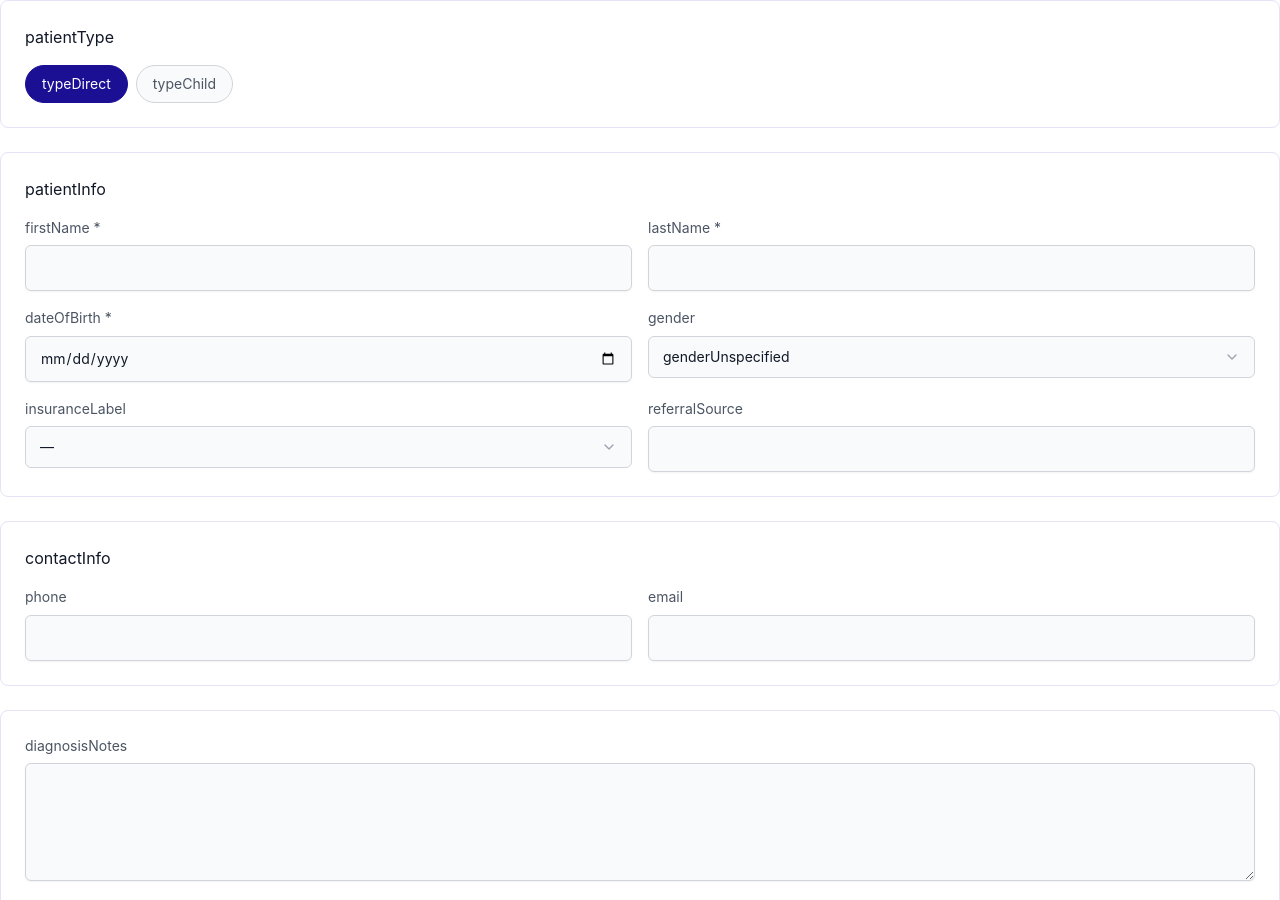
Test: PatientForm › shows parent info fields when child type is selected
# Select child type
Click the radio button labelled "typeChild".
click(184, 84)  # box x1=136 y1=65 x2=233 y2=103
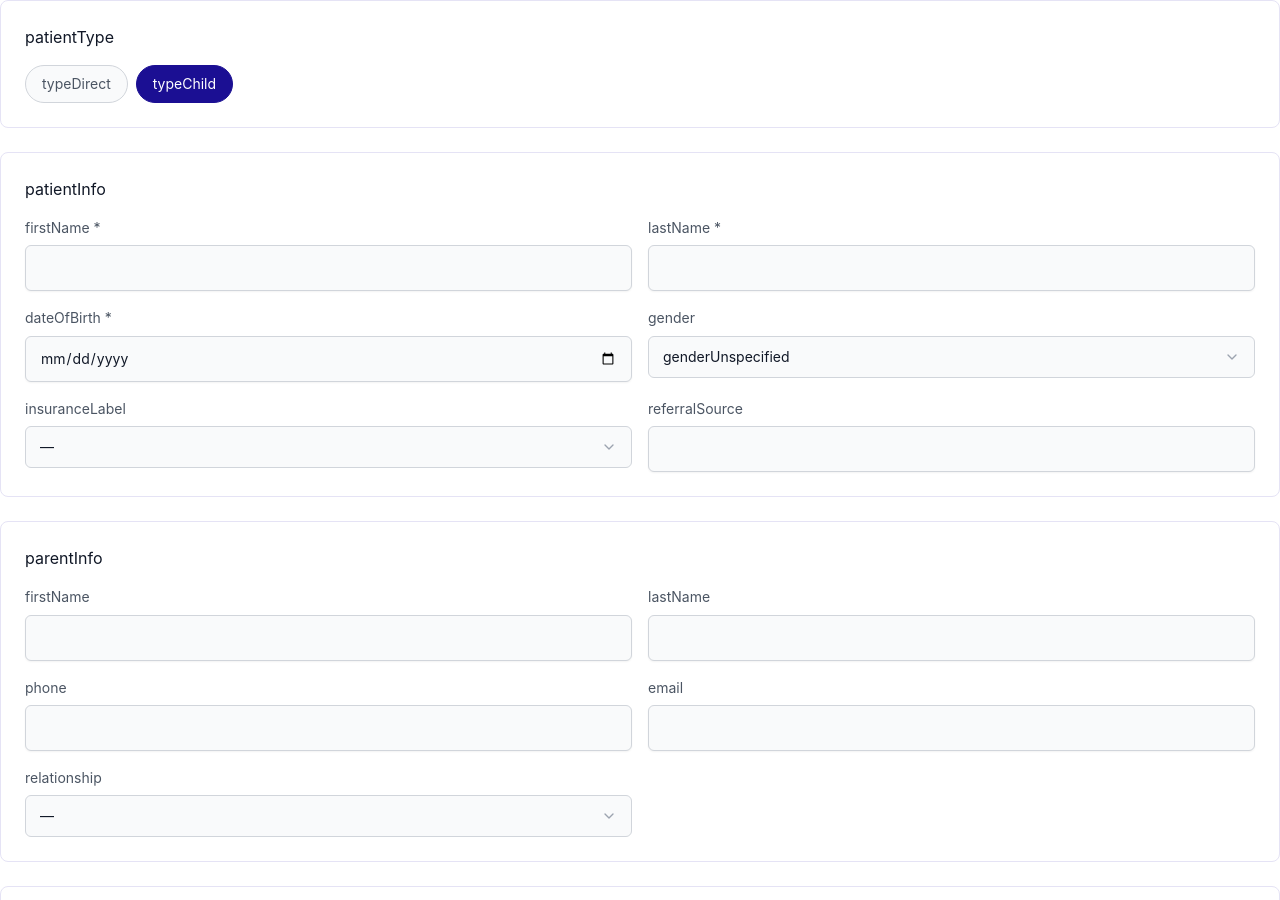
Expected: the heading "parentInfo" is shown, x1=25 y1=548 x2=102 y2=568
Expected: the heading "contactInfo" is gone
